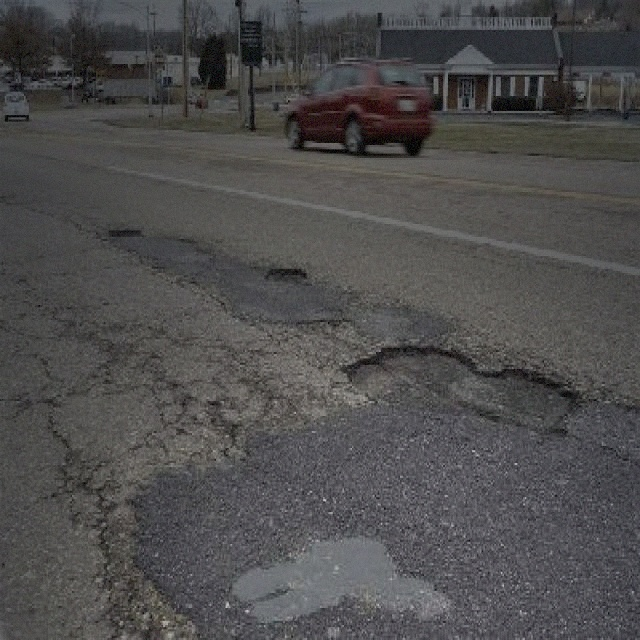pothole: (339, 344, 586, 439), (262, 262, 308, 286), (104, 222, 142, 239)
